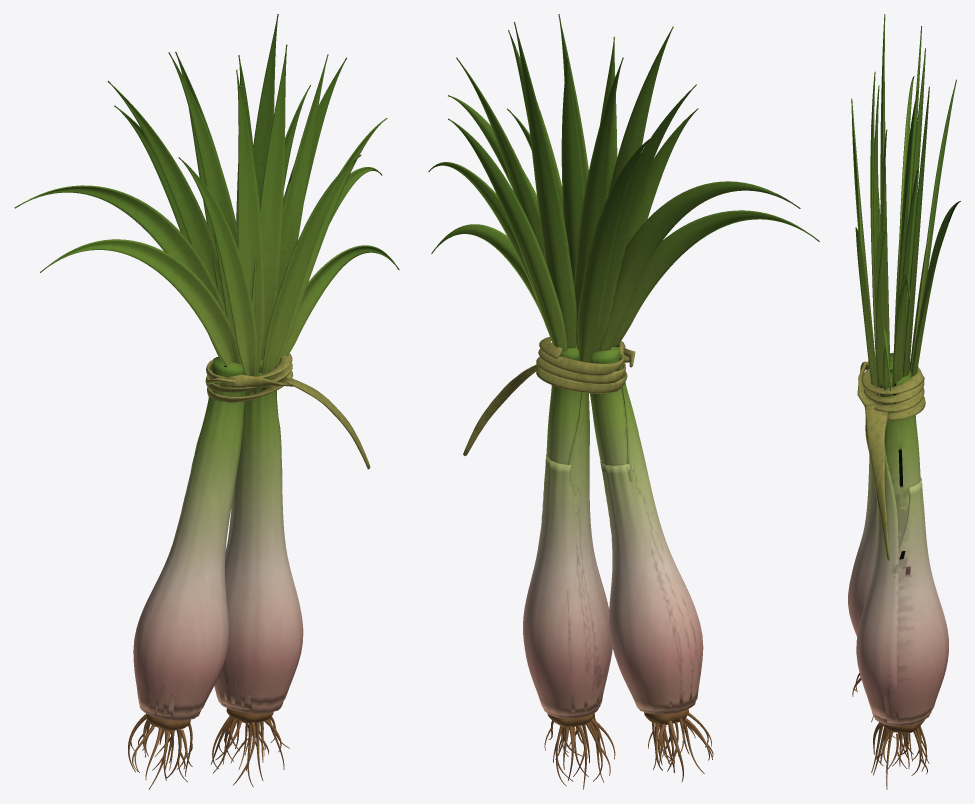
The model's file is serai.glb.
3 renders of one model, left to right at view 1: azimuth 30°, elevation 25°; view 2: azimuth 150°, elevation 25°; view 3: azimuth 270°, elevation 25°, orthographic. The views are drawn at different scales.
Visible parts, largest first — view 1: Serai_Leaves, Serai_Stalks, Serai_Roots, Serai_Tie; view 2: Serai_Leaves, Serai_Stalks, Serai_Tie, Serai_Roots; view 3: Serai_Stalks, Serai_Leaves, Serai_Tie, Serai_Roots.
Part boxes in pixels (x1,y1,x2,y2): Serai_Leaves: (14, 14, 399, 395); Serai_Stalks: (133, 357, 303, 720); Serai_Roots: (128, 708, 289, 789); Serai_Tie: (205, 353, 370, 469); Serai_Leaves: (428, 14, 819, 362); Serai_Stalks: (523, 342, 703, 718); Serai_Tie: (463, 337, 635, 456); Serai_Roots: (544, 709, 713, 789); Serai_Stalks: (848, 353, 948, 726); Serai_Leaves: (851, 14, 960, 402); Serai_Tie: (857, 356, 925, 560); Serai_Roots: (852, 673, 929, 789).
Bounding box in the file's own units: 0.2144 × 0.4114 × 0.0582.
Materials: 4 (4 with a texture image).
